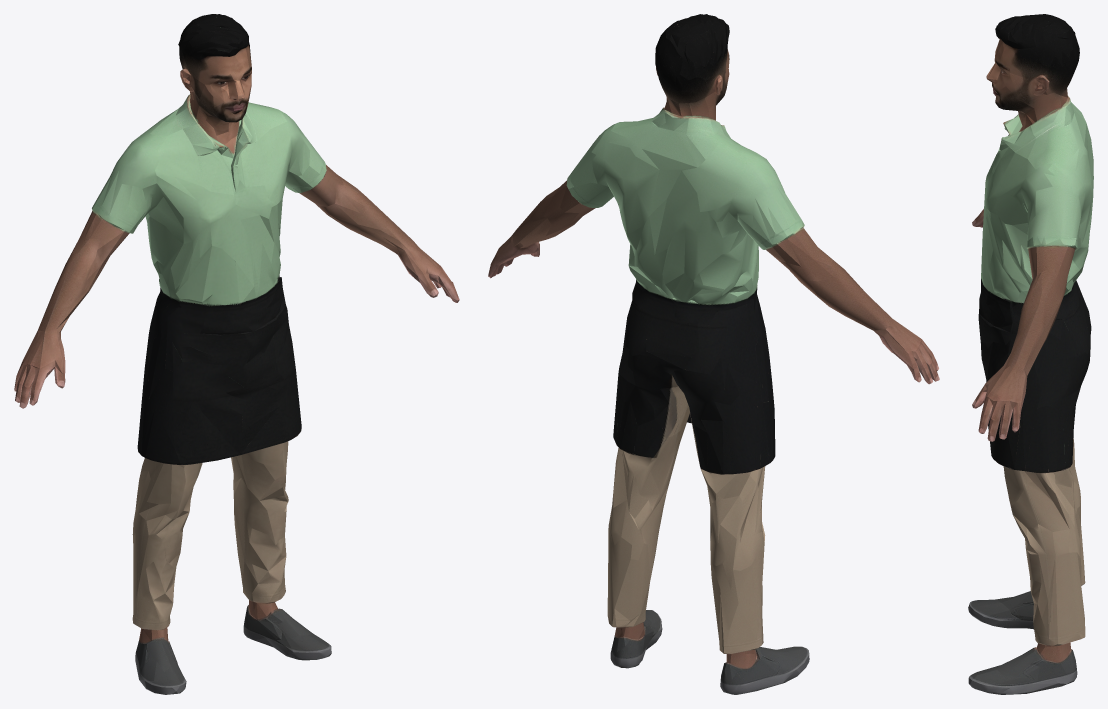
The model's file is image3d.glb.
3 renders of one model, left to right at view 1: azimuth 30°, elevation 25°; view 2: azimuth 150°, elevation 25°; view 3: azimuth 270°, elevation 25°, orthographic.
Size of the model in its own units: 1.37 by 1.9 by 0.3407.
1 material, 1 textured.
